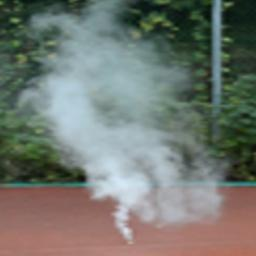smoke: (18, 0, 226, 243)
